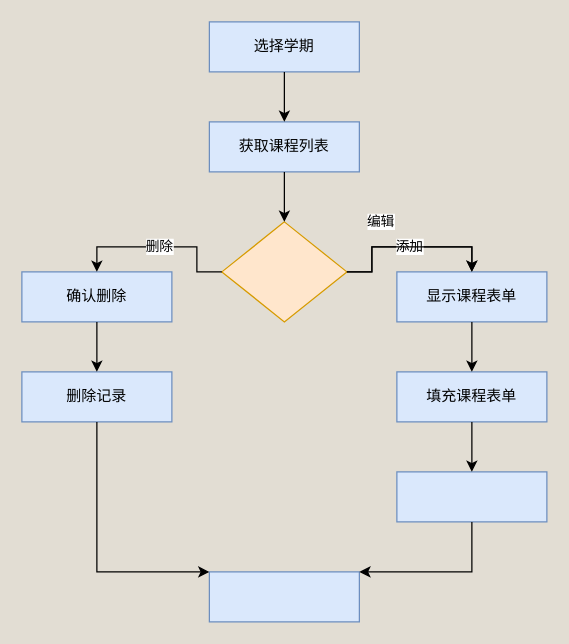
Some shapes in this 569 by 644 pixel diagram are drawn without their labels. The shapes that lost their labels are listed below. From the top down, each one's centre as x and y in pixels, then its label:
At [284,271]: "操作类型".
At [471,496]: "提交验证".
At [283,596]: "保存到数据库".
